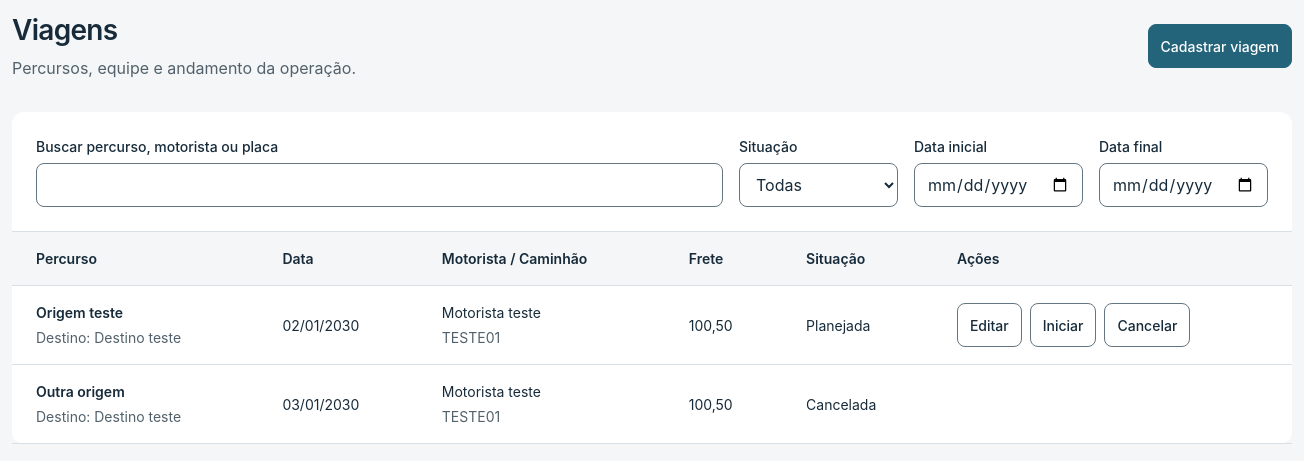
Test: filtra viagens localmente por situacao e periodo
Check: the column heading "Origem teste" is shown, box [36,304,123,321]
Step 1. Select "Planejada" in the dropdown labelled "Situação" → (818,185), box [739,163,898,207]
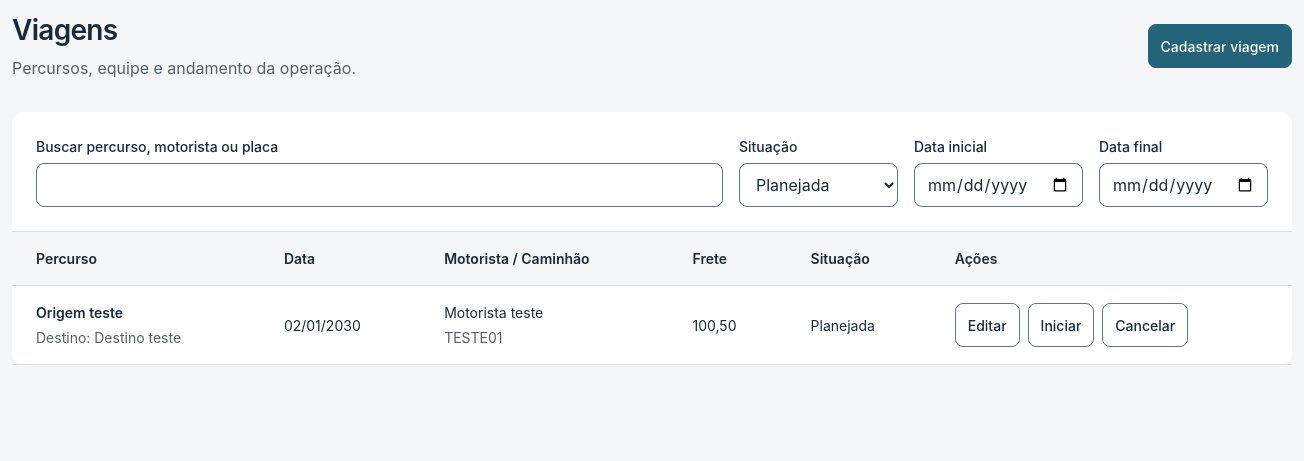
Check: the column heading "Outra origem" is gone
Step 2. Type "2030-01-03" into the date field labelled "Data inicial" → (998,185), box [914,163,1083,207]
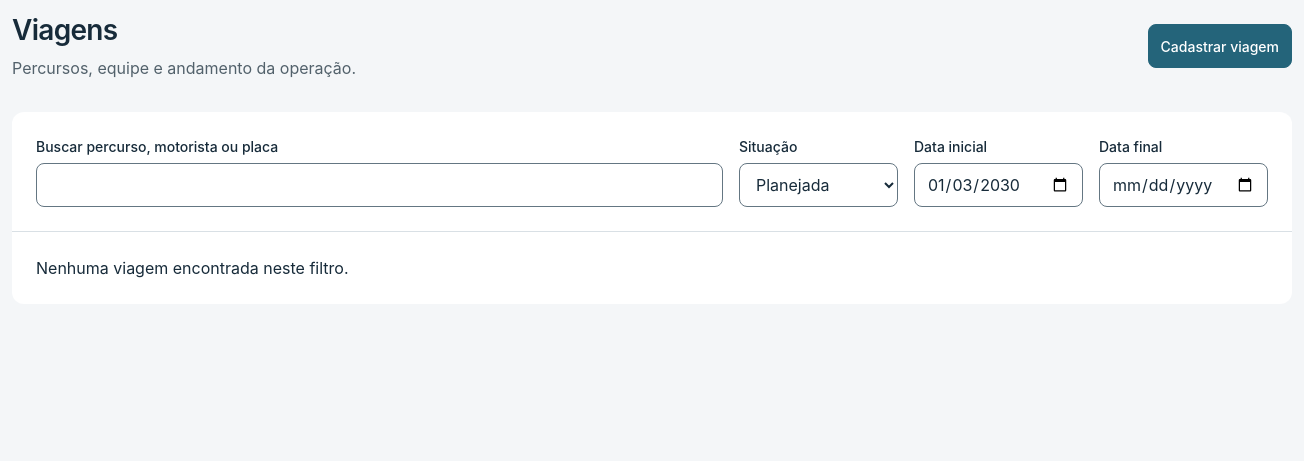
Check: the text "Nenhuma viagem encontrada neste filtro." is shown, box [36,258,348,278]
